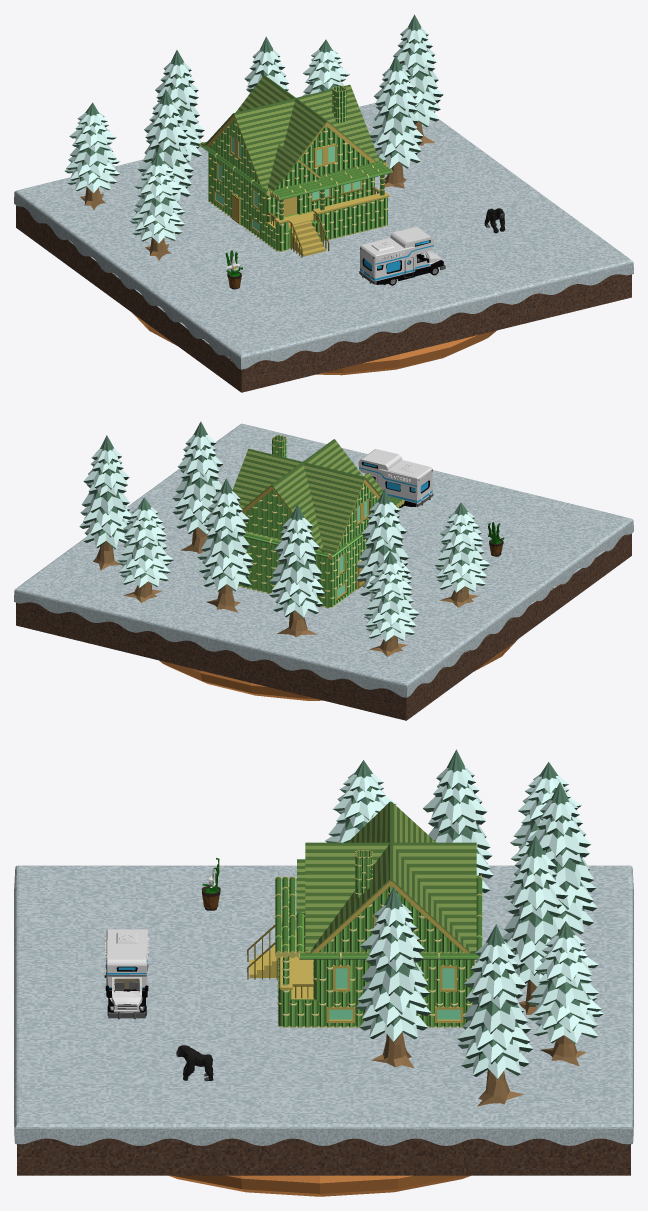
3 views of the same model, one above another, from view 1: azimuth 30°, elevation 25°; view 2: azimuth 150°, elevation 25°; view 3: azimuth 270°, elevation 25° (orthographic). The views are drawn at different scales.
Visible parts, largest first — view 1: Cube.003, Cube.1327, VEHICLES_CAMPER, UNDERGROUND_PIZZA; view 2: Cube.003, Cube.1327, VEHICLES_CAMPER, UNDERGROUND_PIZZA; view 3: Cube.003, Cube.1327, UNDERGROUND_PIZZA, VEHICLES_CAMPER, ANIMAL_GORILA.
Part boxes in pixels (x1,y1,x2,y2): Cube.003: (14,14,633,392); Cube.1327: (199,75,392,257); VEHICLES_CAMPER: (359,227,445,285); UNDERGROUND_PIZZA: (132,313,496,375); Cube.003: (14,421,633,720); Cube.1327: (232,435,404,608); VEHICLES_CAMPER: (358,449,433,507); UNDERGROUND_PIZZA: (159,639,517,700); Cube.003: (14,749,633,1175); Cube.1327: (247,801,482,1027); UNDERGROUND_PIZZA: (169,1175,470,1196); VEHICLES_CAMPER: (104,929,149,1019); ANIMAL_GORILA: (176,1045,213,1081).
Size of the model in its own units: 4040 by 1904 by 4040.
34 materials, 4 textured.
